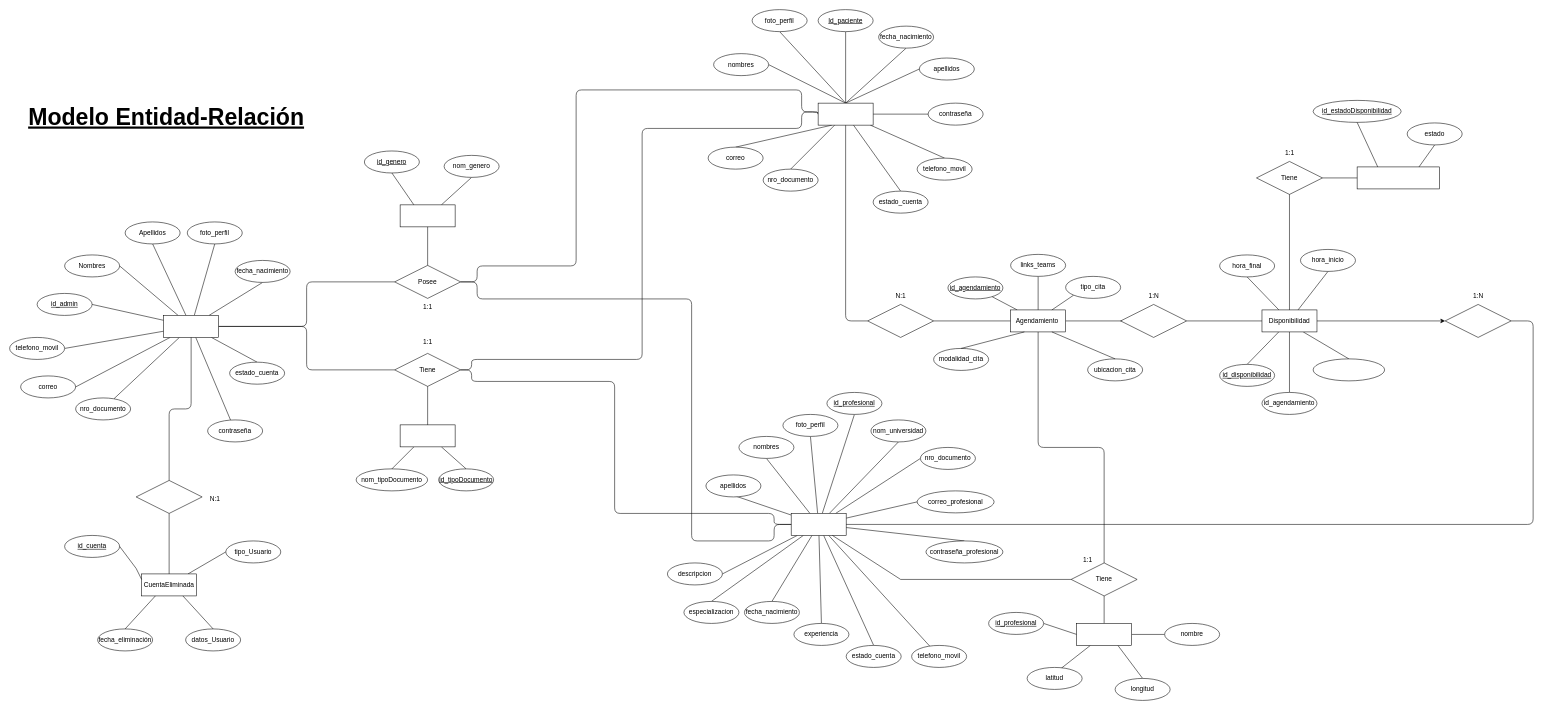
Image size: 1543x710. Some labels were removed from this diagram. The shapes that lost their labels are listed below. From the top down, each one's box as (x1, y1, x2, y2) in pixels, then its label:
(818, 103, 873, 125): Paciente
(1357, 166, 1440, 189): Estado de disponibilidad
(400, 204, 455, 227): Genero
(163, 315, 219, 337): Adminisrador
(867, 304, 934, 337): Realiza
(1120, 304, 1187, 337): Verifica
(1445, 304, 1511, 337): Programa
(1313, 358, 1385, 381): fecha_disponibilidad
(400, 424, 455, 447): tipo_documento
(136, 480, 202, 513): Gestiona
(791, 513, 846, 535): Profesional
(1076, 623, 1132, 645): sedes
